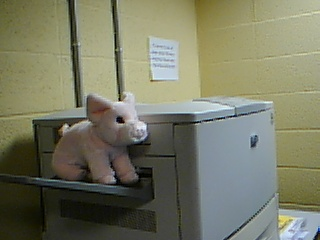piggy: (49, 89, 149, 187)
